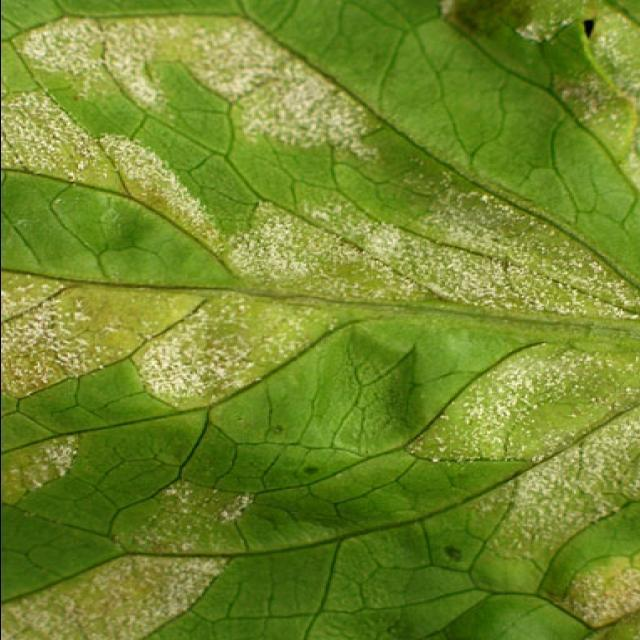Powdery_mildew_on_lettuce: (3, 12, 389, 410)
